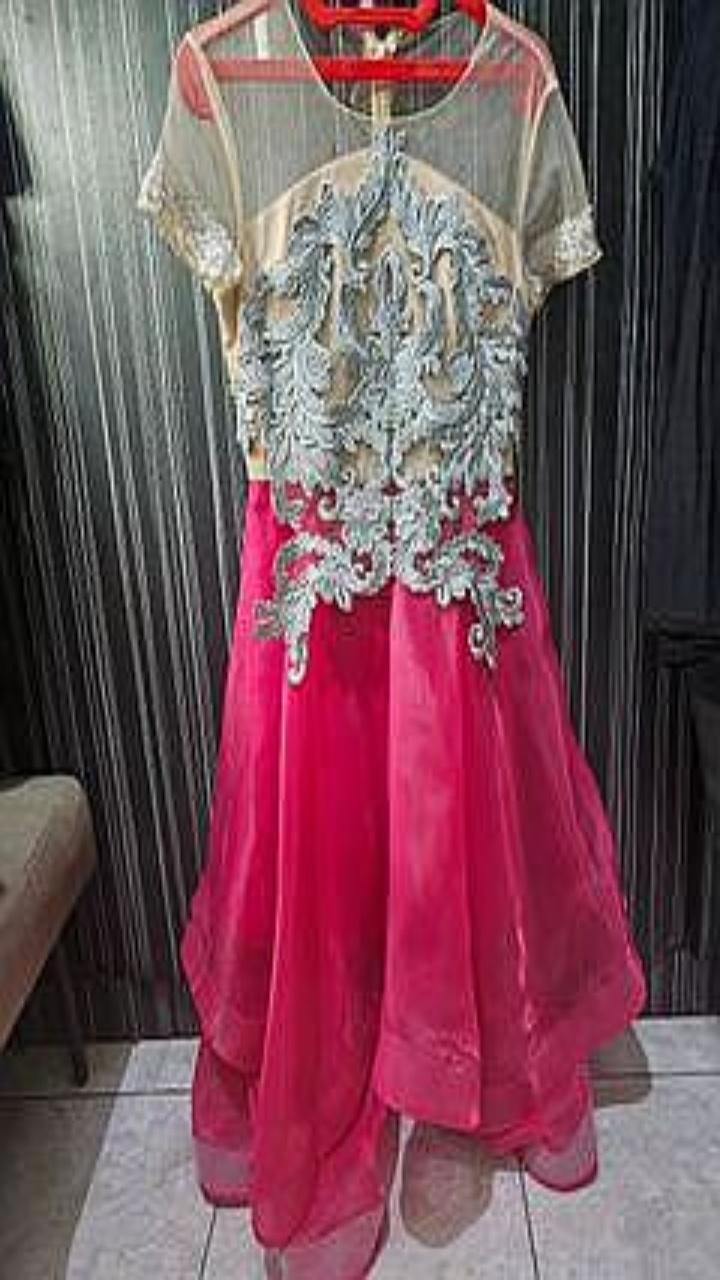Dresses: (139, 0, 645, 1279)
